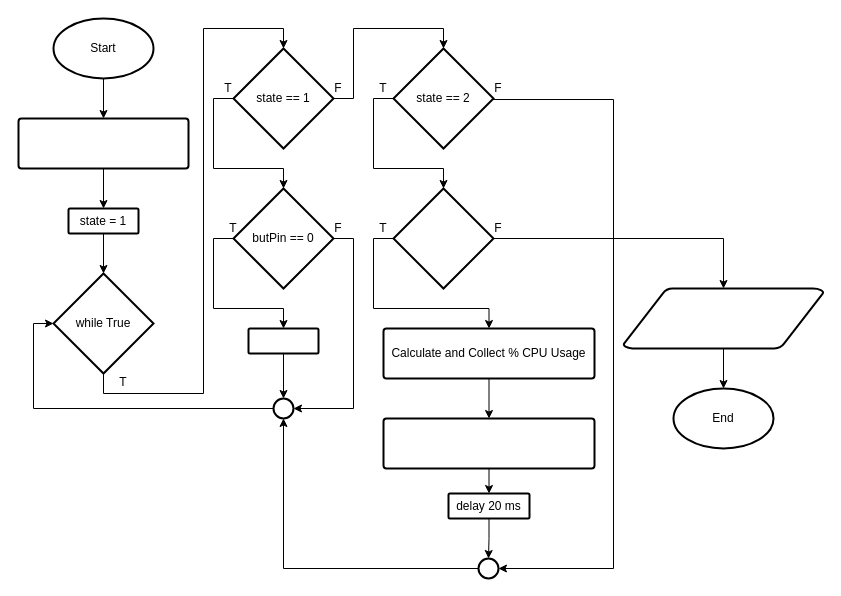
The diagram is 841 pixels wide and 596 high, and some of its shapes have lost their labels. Each missing label, with the box of its shape:
Calculate and Print % CPU usage, RAM usage: (622, 287, 824, 349)
GPIO.setmode(GPIO.BCM) butPin = GPIO21 stopPin = GPIO20: (17, 117, 189, 169)
Read and Collect Ram Usage: (382, 417, 595, 469)
state = 2: (247, 327, 319, 354)
stopPin != 0: (392, 187, 494, 289)
